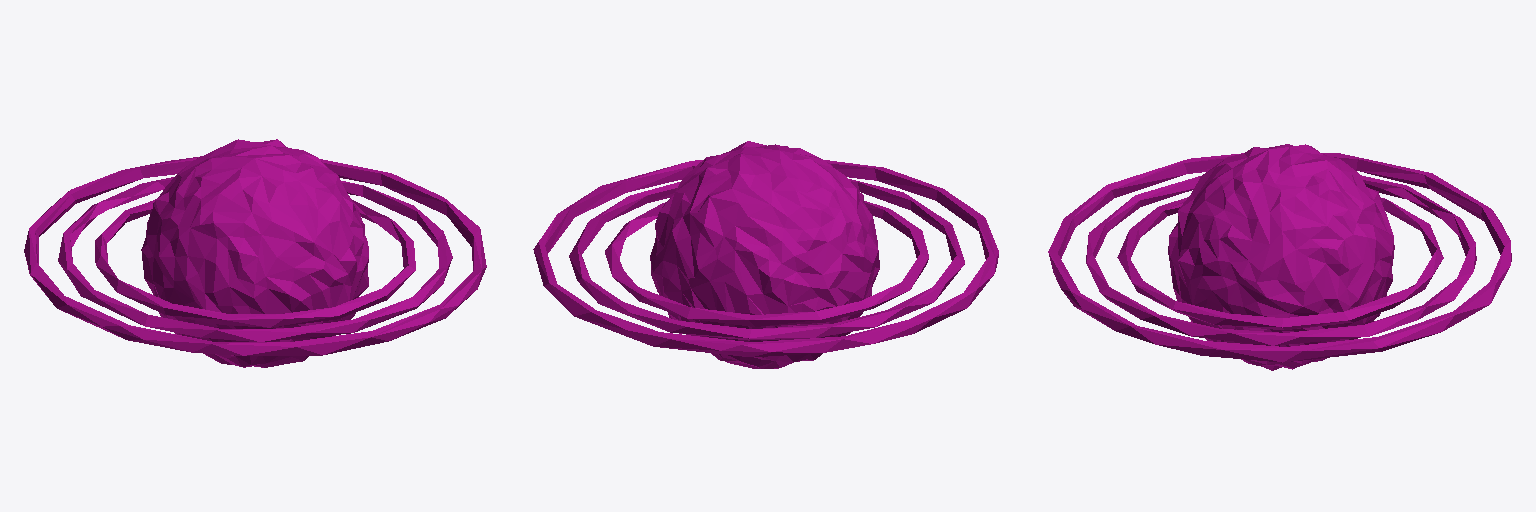
The model's file is uranus_scaled.obj.
The picture shows the model from 3 angles: view 1: azimuth 30°, elevation 25°; view 2: azimuth 150°, elevation 25°; view 3: azimuth 270°, elevation 25°; orthographic projection.
Parts seen in each view (by area): view 1: Uranus; view 2: Uranus; view 3: Uranus.
Part boxes in pixels (bbox=[...]): Uranus: bbox=[24, 139, 486, 367]; Uranus: bbox=[533, 141, 998, 368]; Uranus: bbox=[1048, 144, 1511, 370].
Bounding box in the file's own units: 20.25 × 10.01 × 20.35.